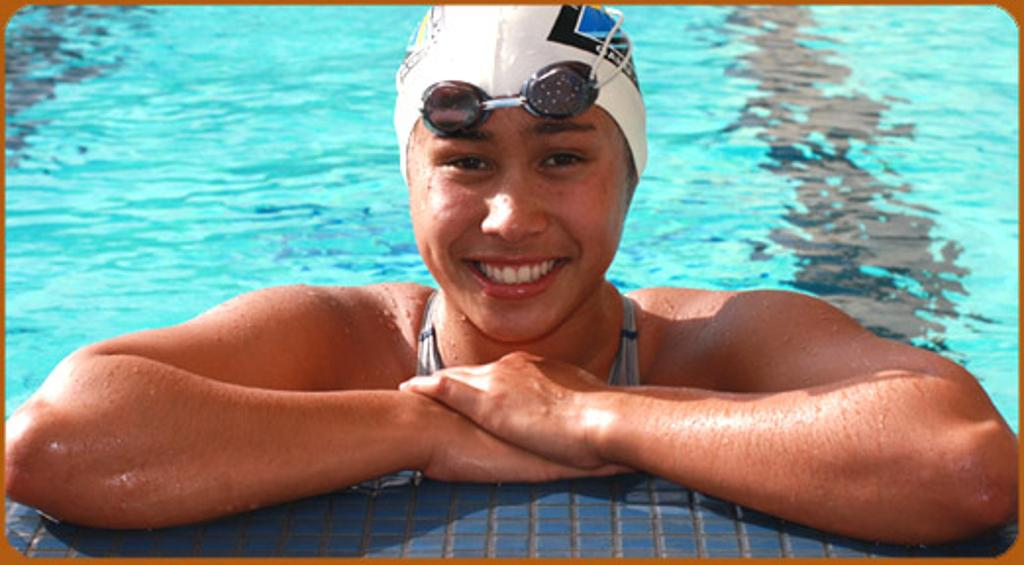face: (420, 56, 624, 340)
